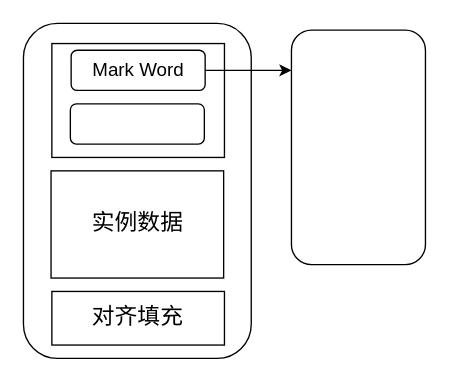
Image size: 449x382. Some labels were removed from this diagram. The shapes that lost their labels are listed below. From the top down, each one's centre as x and y in pixels, then its label:
At (x=136, y=123): "类型指针".
At (x=357, y=147): "哈希码 GC 分代年龄 锁状态标志 偏向线程 ID 偏向时间戳".
